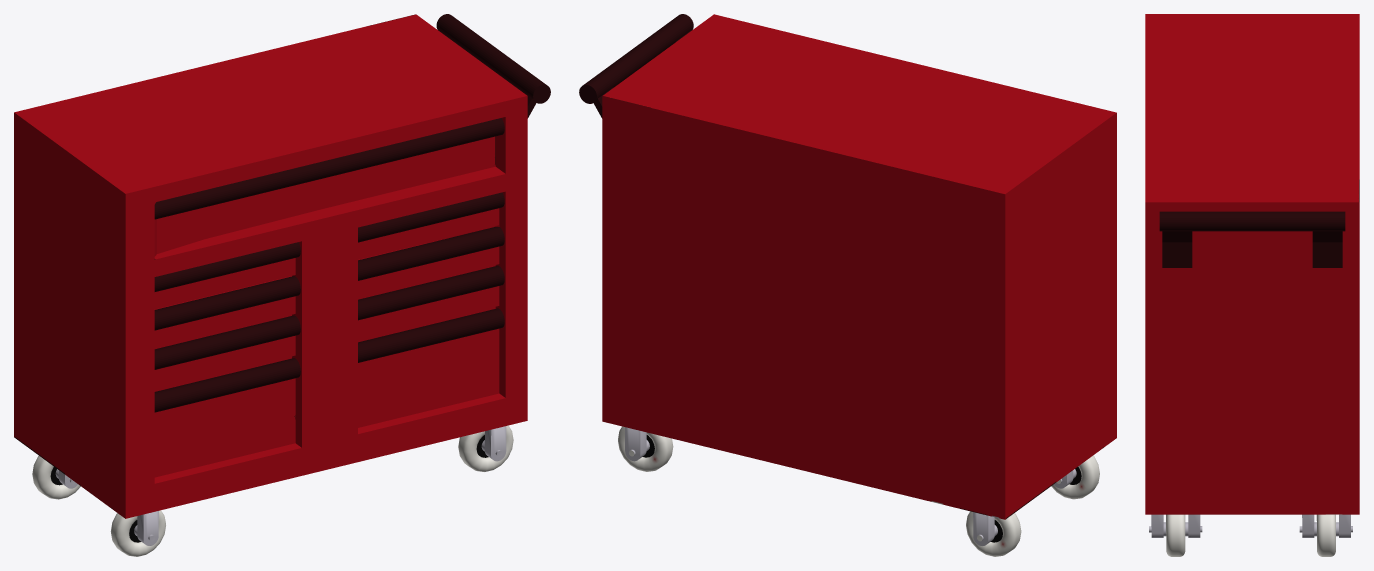
Rendered from B_Toolbox.fbx.
The picture shows the model from 3 angles, left to right: view 1: azimuth 30°, elevation 25°; view 2: azimuth 150°, elevation 25°; view 3: azimuth 270°, elevation 25°; orthographic projection. The views are drawn at different scales.
Parts seen in each view (by area): view 1: Cube.023, Cylinder.012, Cylinder.017, Cylinder.016, Cylinder.015, Cylinder.014, Cylinder.010, Wheel-lp.006, Wheel-lp.002, Wheel-lp.004, Wheel-lp.003; view 2: Cube.023, Cylinder.010, Wheel-lp.004, Wheel-lp, Wheel-lp.006; view 3: Cube.023, Cylinder.010, Cube.024, Cube.025, Wheel-lp.002, Wheel-lp, Wheel-lp.003, Wheel-lp.001.
Boxes of the visible parts, bbox=[...] form: Cube.023: bbox=[14, 14, 527, 518]; Cylinder.012: bbox=[154, 118, 504, 219]; Cylinder.017: bbox=[154, 308, 504, 412]; Cylinder.016: bbox=[154, 265, 504, 369]; Cylinder.015: bbox=[154, 227, 504, 330]; Cylinder.014: bbox=[154, 192, 504, 291]; Cylinder.010: bbox=[436, 14, 550, 103]; Wheel-lp.006: bbox=[110, 510, 165, 556]; Wheel-lp.002: bbox=[458, 425, 513, 471]; Wheel-lp.004: bbox=[32, 456, 80, 499]; Wheel-lp.003: bbox=[484, 426, 506, 461]; Cube.023: bbox=[602, 14, 1116, 519]; Cylinder.010: bbox=[579, 14, 693, 103]; Wheel-lp.004: bbox=[966, 511, 1021, 556]; Wheel-lp: bbox=[618, 426, 673, 471]; Wheel-lp.006: bbox=[1051, 455, 1099, 499]; Cube.023: bbox=[1145, 14, 1359, 514]; Cylinder.010: bbox=[1159, 211, 1345, 231]; Cube.024: bbox=[1162, 231, 1192, 267]; Cube.025: bbox=[1312, 231, 1342, 267]; Wheel-lp.002: bbox=[1149, 514, 1202, 556]; Wheel-lp: bbox=[1299, 514, 1352, 556]; Wheel-lp.003: bbox=[1151, 514, 1200, 537]; Wheel-lp.001: bbox=[1302, 514, 1350, 537].
Size of the model in its own units: 1.89 by 1.58 by 0.843.
